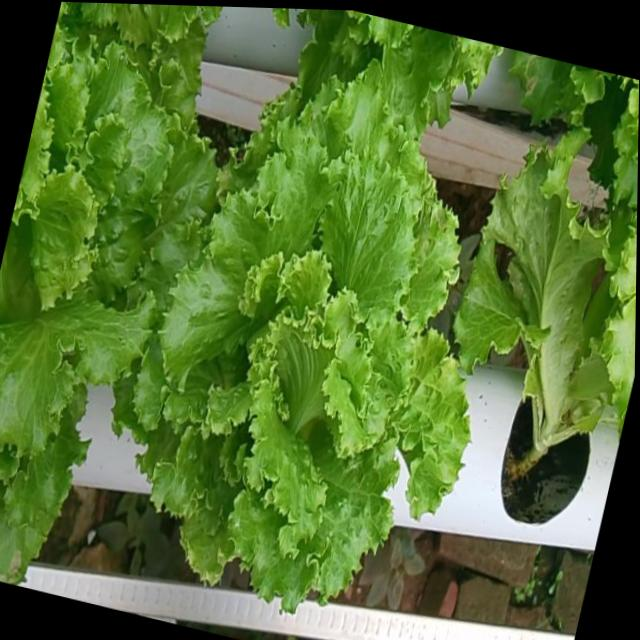Mature: (136, 92, 473, 631), (0, 58, 222, 485)
